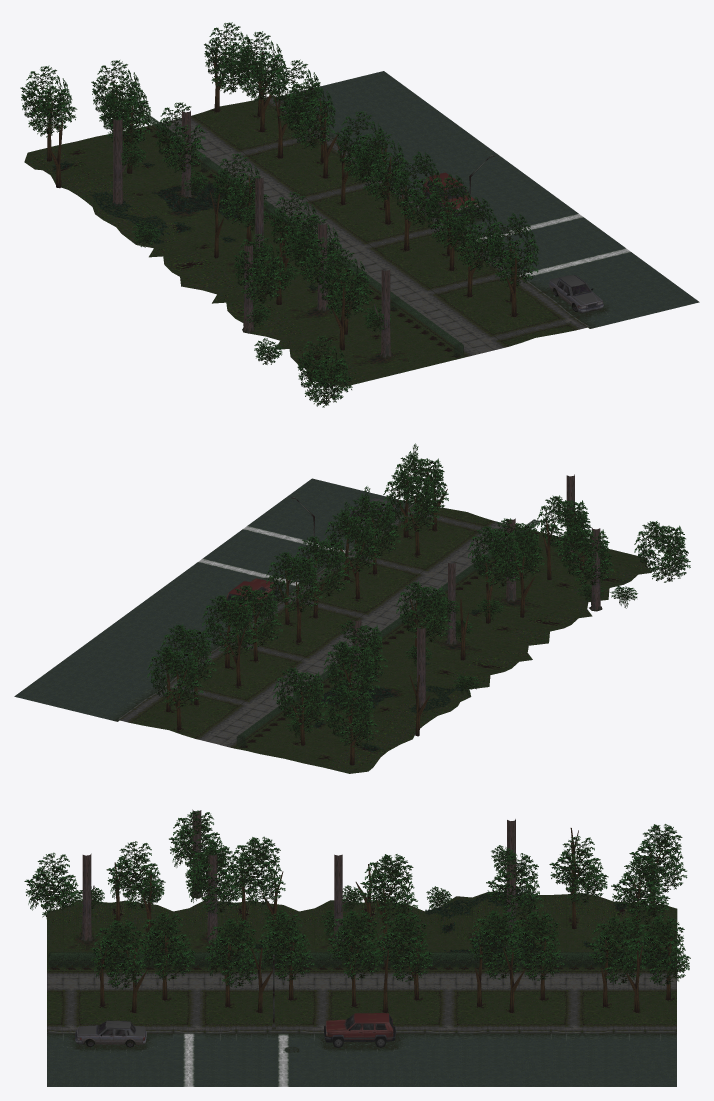
File: THRF9FE.glb
The picture shows the model from 3 angles, top to bottom: view 1: azimuth 30°, elevation 25°; view 2: azimuth 150°, elevation 25°; view 3: azimuth 270°, elevation 25°; orthographic projection. The views are drawn at different scales.
Visible parts, largest first — view 1: 7105_1_H_m0, THR0020_m0, THR7102_m0, THR7101_m0, 7105_1_H#1_m0, THR0020#1_m0, THR0003_m0, THR0001#1_m0, THR0020#4_m0, THR0020#3_m0, THR0020#2_m0, 7105_1_H#2_m0 (+34 smaller); view 2: THR7101_m0, 7105_1_H#1_m0, 7105_1_H#2_m0, THR0001#1_m0, THR0020#4_m0, THR0020#3_m0, THR0020#2_m0, THR0020#1_m0, THR0001_m0, THR0003_m0, THR0020_m0, 7105_1_H_m0 (+30 smaller); view 3: THR0001_m0, THR0003_m0, THR0001#1_m0, THR0020#3_m0, THR0020#4_m0, THR0020#1_m0, THR0020_m0, THR0020#2_m0, THR7101_m0, 7105_1_H_m0, THR7102_m0, 7105_1_H#1_m0 (+36 smaller).
Boxes of the visible parts, x1,y1,x2,y2 form: 7105_1_H_m0: (275,307,481,386); THR0020_m0: (419,280,589,353); THR7102_m0: (78,168,290,248); THR7101_m0: (24,122,227,195); 7105_1_H#1_m0: (212,261,416,340); THR0020#1_m0: (354,234,525,306); THR0003_m0: (473,209,635,282); THR0001#1_m0: (278,71,446,142); THR0020#4_m0: (167,95,336,167); THR0020#3_m0: (229,142,399,213); THR0020#2_m0: (292,188,458,260); 7105_1_H#2_m0: (149,215,353,294); THR7101_m0: (220,702,422,773); 7105_1_H#1_m0: (399,570,592,645); 7105_1_H#2_m0: (348,614,532,688); THR0001#1_m0: (14,653,174,721); THR0020#4_m0: (118,676,276,744); THR0020#3_m0: (179,634,337,700); THR0020#2_m0: (240,590,398,656); THR0020#1_m0: (299,546,457,613); THR0001_m0: (74,609,234,677); THR0003_m0: (193,522,353,590); THR0020_m0: (361,503,517,570); 7105_1_H_m0: (459,529,651,601); THR0001_m0: (424,1033,551,1086); THR0003_m0: (173,1033,299,1086); THR0001#1_m0: (550,1033,676,1086); THR0020#3_m0: (424,978,551,1033); THR0020#4_m0: (550,978,676,1033); THR0020#1_m0: (173,978,299,1033); THR0020_m0: (47,978,173,1033); THR0020#2_m0: (298,978,425,1033); THR7101_m0: (550,893,677,977); 7105_1_H_m0: (47,900,173,978); THR7102_m0: (424,892,551,977); 7105_1_H#1_m0: (173,900,299,977).
Size of the model in its own units: 29.68 by 9.19 by 43.62.
18 materials, 18 textured.
